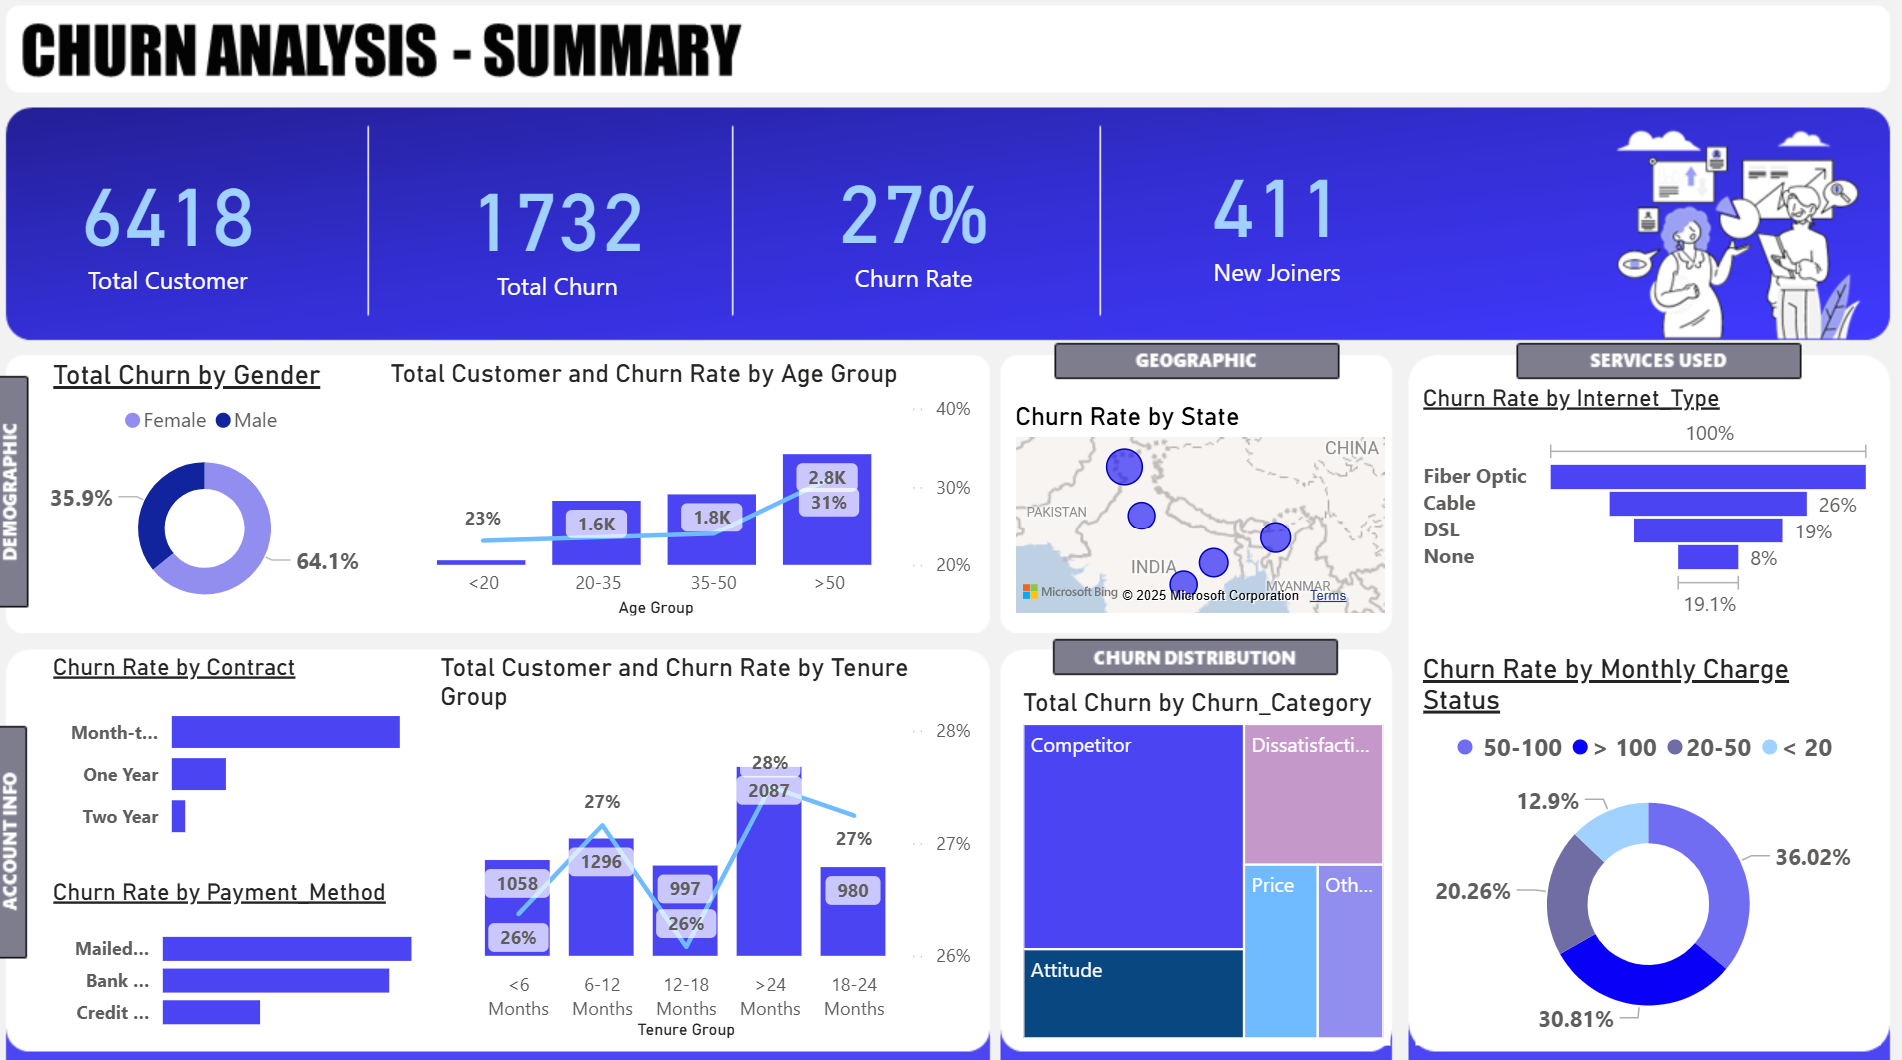

The page's visual inventory and layout, read from the dashboard file:
{"tool":"powerbi","page":{"name":"Page 1","canvas":[1280,720],"ordinal":0},"visuals":[{"type":"card","fields":{"Values":["Messures.Total Customer"]},"box":[21.4,75.7,195.7,154.3],"z":0},{"type":"card","fields":{"Values":["Messures.New Joiners"]},"box":[755,81.7,208.3,130],"z":1000},{"type":"card","fields":{"Values":["Messures.Total Churn"]},"box":[274.3,81.4,208.6,148.6],"z":2000},{"type":"card","fields":{"Values":["Messures.Churn Rate"]},"box":[512.9,75.7,207.1,151.4],"z":3000},{"type":"donutChart","fields":{"Category":["prod_Churn.Gender"],"Y":["Messures.Total Churn"]},"box":[38.3,243.3,211.7,176.7],"z":4000},{"type":"lineStackedColumnComboChart","title":"Total Customer and Churn Rate by Age Group","fields":{"Category":["Age Mapping.Age Group"],"Y":["Messures.Total Customer","Messures.Churn Rate"],"Y2":["Messures.Churn Rate"]},"box":[263.3,243.3,396.7,176.7],"z":5000},{"type":"clusteredBarChart","fields":{"Category":["prod_Churn.Contract"],"Y":["Messures.Churn Rate"]},"box":[38.3,440,285,136.7],"z":6000},{"type":"barChart","fields":{"Category":["prod_Churn.Payment_Method"],"Y":["Messures.Churn Rate"]},"box":[38.3,590,258.3,111.7],"z":8000},{"type":"lineStackedColumnComboChart","fields":{"Category":["tenuGroup.Tenure Group"],"Y":["Messures.Total Customer"],"Y2":["Messures.Churn Rate"]},"box":[296.7,440,363.3,261.7],"z":9000},{"type":"map","fields":{"Category":["prod_Churn.State"],"Size":["Messures.Churn Rate"]},"box":[680,271.4,255.7,147.1],"z":10000},{"type":"treemap","fields":{"Group":["prod_Churn.Churn_Category"],"Values":["Messures.Total Churn"]},"box":[685,463.3,250,238.3],"z":11000},{"type":"funnel","fields":{"Category":["prod_Churn.Internet_Type"],"Y":["Messures.Churn Rate"]},"box":[951.7,260,310,160],"z":12000},{"type":"donutChart","fields":{"Y":["Messures.Churn Rate"],"Category":["prod_Churn.Monthly Charge Status"]},"box":[951.7,440,310,261.7],"z":12001}]}

Visuals, with their boxes in screenshot pixels (x1, y1, x2, y2), scaled from the page's 1280x720 canvas onto the 1902x1060 screenshot:
card - Messures.Total Customer: (32, 111, 323, 339)
card - Messures.New Joiners: (1122, 120, 1431, 312)
card - Messures.Total Churn: (408, 120, 718, 339)
card - Messures.Churn Rate: (762, 111, 1070, 334)
donutChart - prod_Churn.Gender x Messures.Total Churn: (57, 358, 371, 618)
"Total Customer and Churn Rate by Age Group" lineStackedColumnComboChart: (391, 358, 981, 618)
clusteredBarChart - prod_Churn.Contract x Messures.Churn Rate: (57, 648, 480, 849)
barChart - prod_Churn.Payment_Method x Messures.Churn Rate: (57, 869, 441, 1033)
lineStackedColumnComboChart - tenuGroup.Tenure Group x Messures.Total Customer: (441, 648, 981, 1033)
map - prod_Churn.State x Messures.Churn Rate: (1010, 400, 1390, 616)
treemap - prod_Churn.Churn_Category x Messures.Total Churn: (1018, 682, 1389, 1033)
funnel - prod_Churn.Internet_Type x Messures.Churn Rate: (1414, 383, 1875, 618)
donutChart - Messures.Churn Rate x prod_Churn.Monthly Charge Status: (1414, 648, 1875, 1033)
